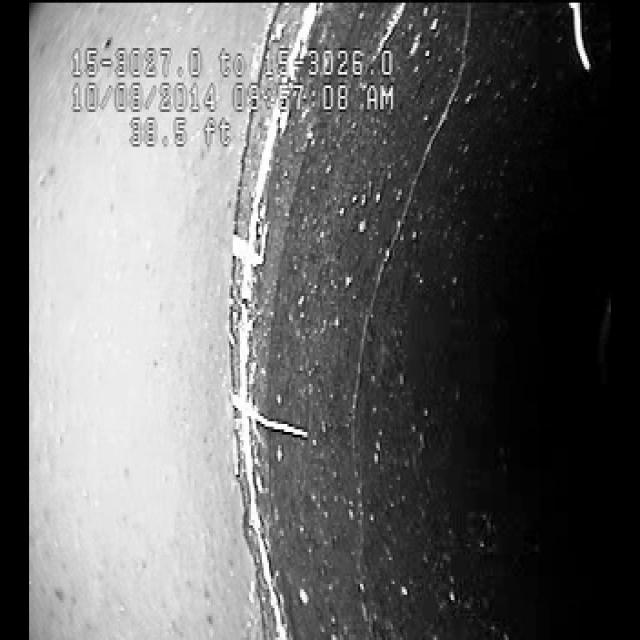Crack: (331, 119, 434, 639)
